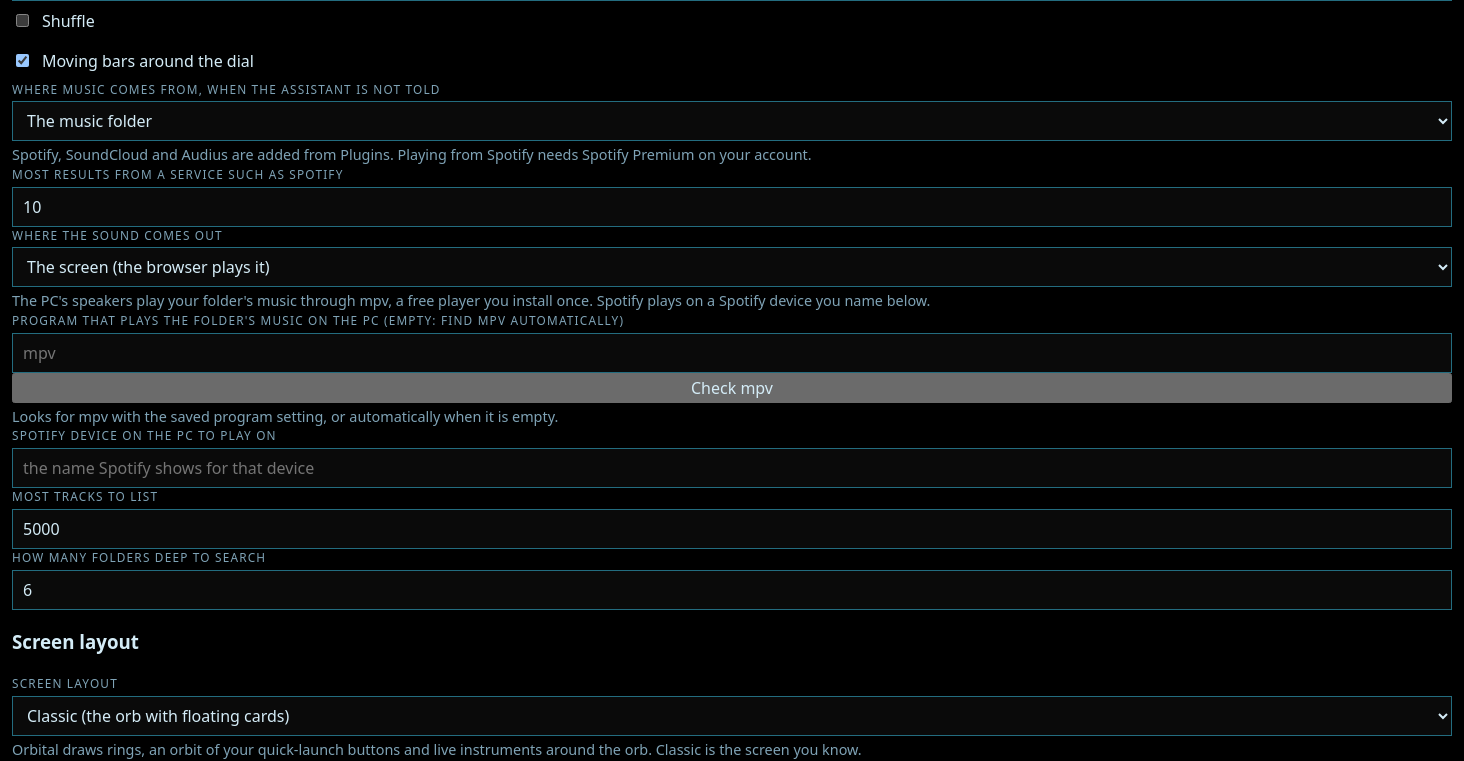
Test: checking mpv › shows how to install it when it is not there, and an error in plain words
(page scrolled)
Click the button "Check mpv".
click(732, 388)  # box [12, 373, 1452, 403]
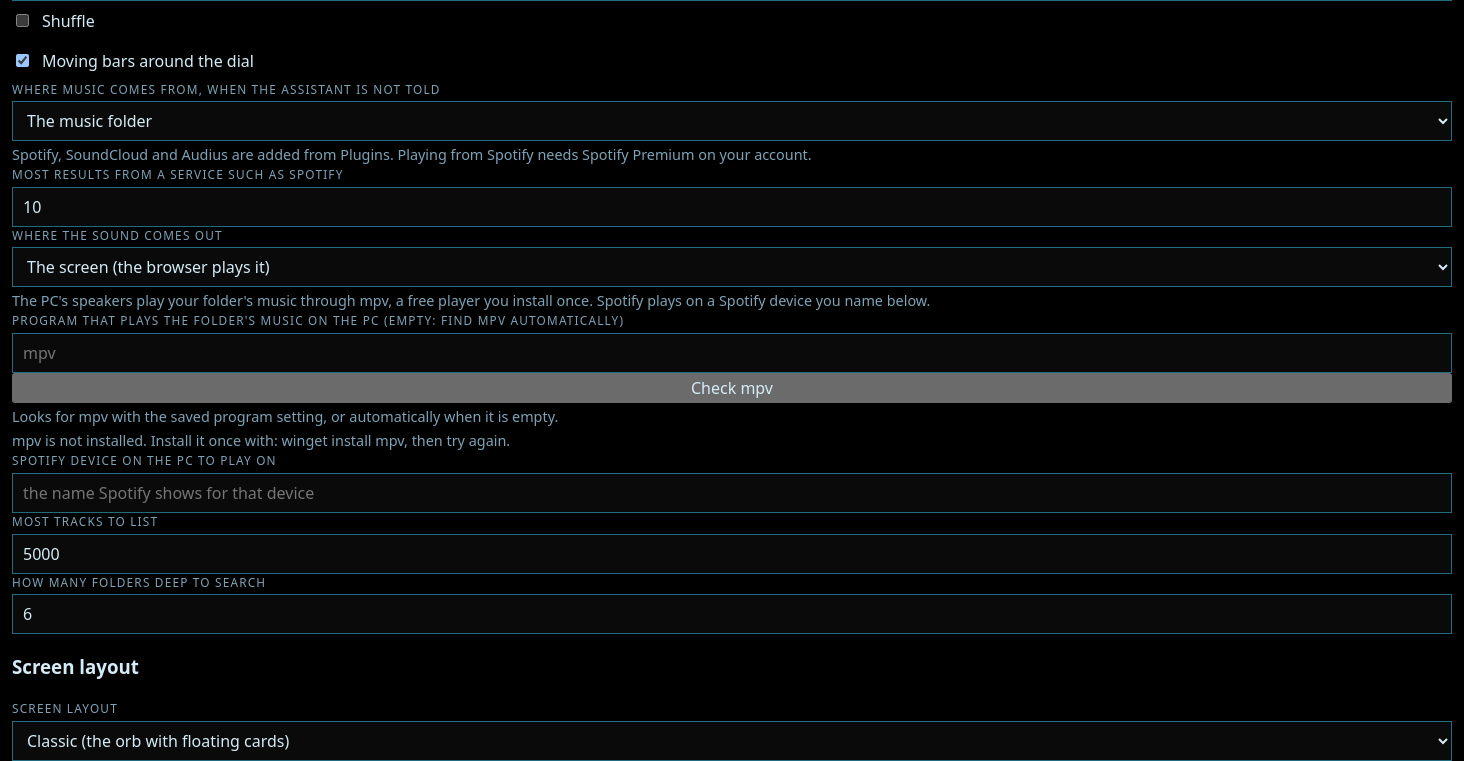
Check: the message shows "winget install mpv", box [12, 431, 510, 450]
Click the button "Check mpv".
click(732, 388)  # box [12, 373, 1452, 403]
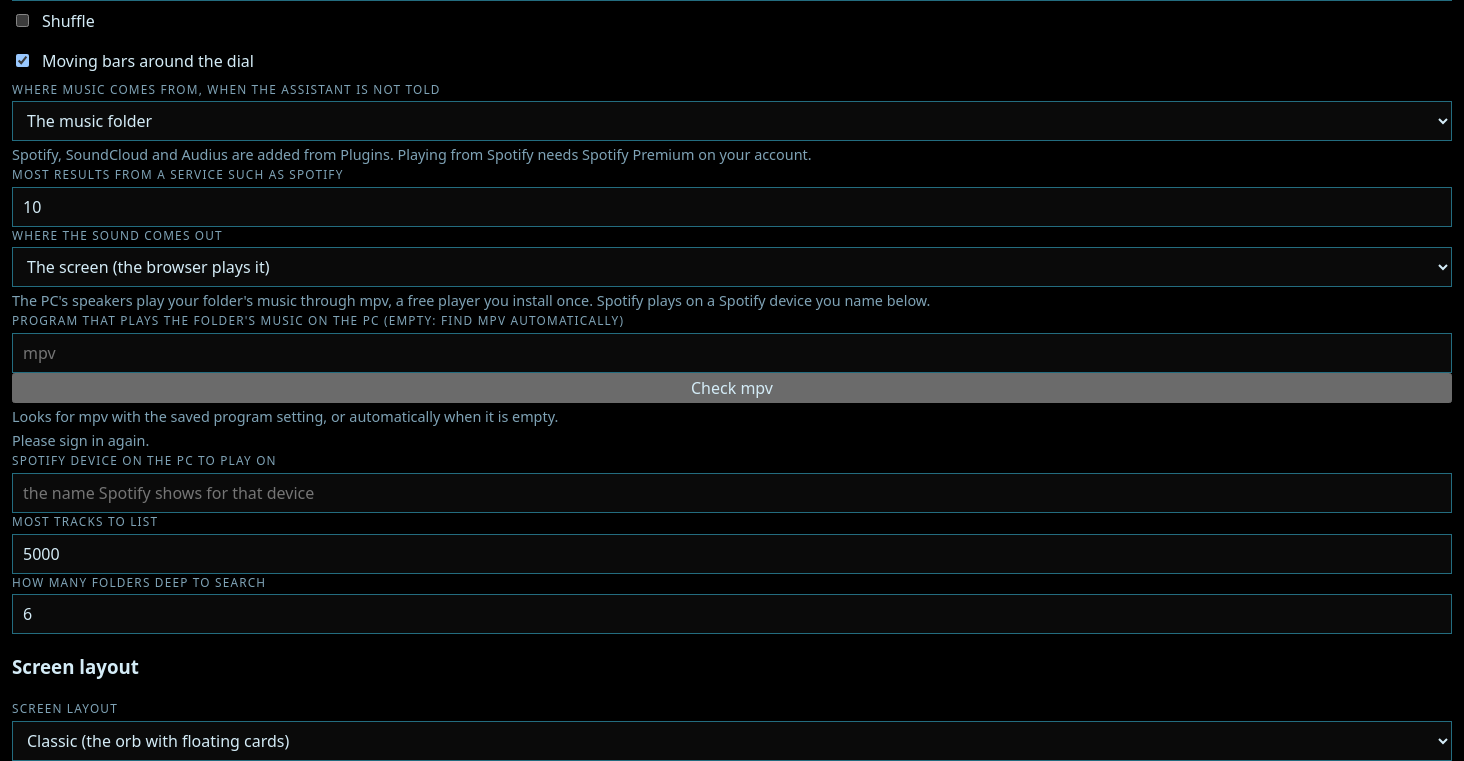
Check: the message shows "sign in again", box [12, 431, 149, 450]
